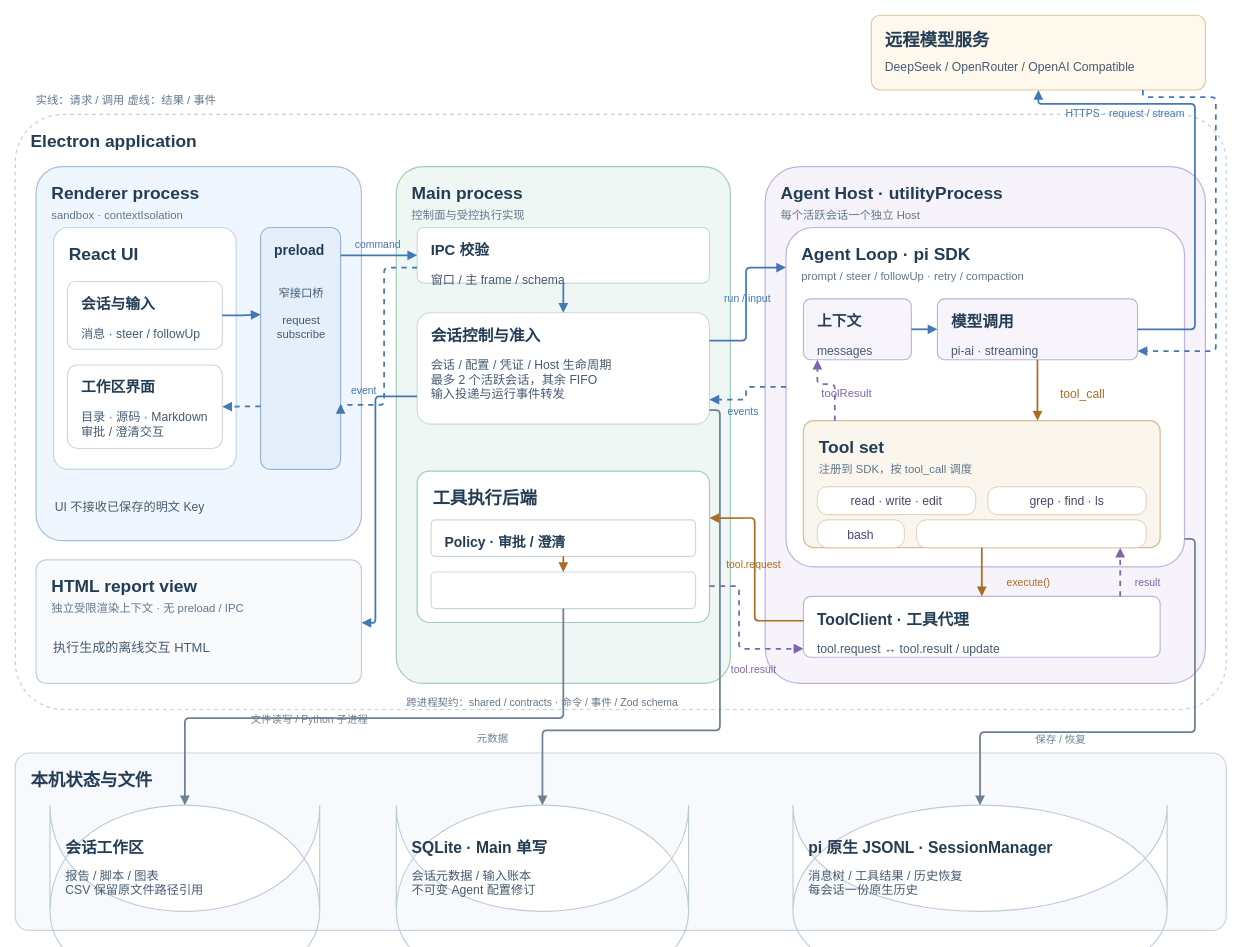
Image size: 1242x947. Some labels were removed from this diagram. Each missing label, with the centre of its shape:
ask_clarification: point (1031, 533)
文件 / 搜索 / ProcessRunner: point (563, 590)
